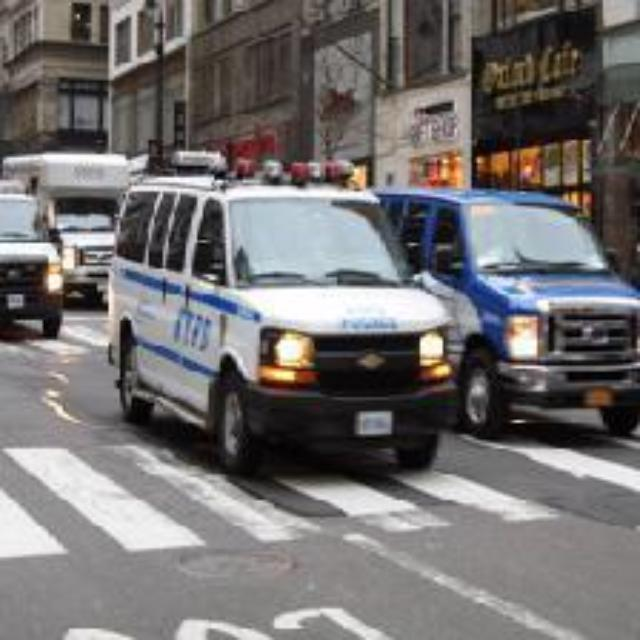emergency: (127, 154, 447, 466)
